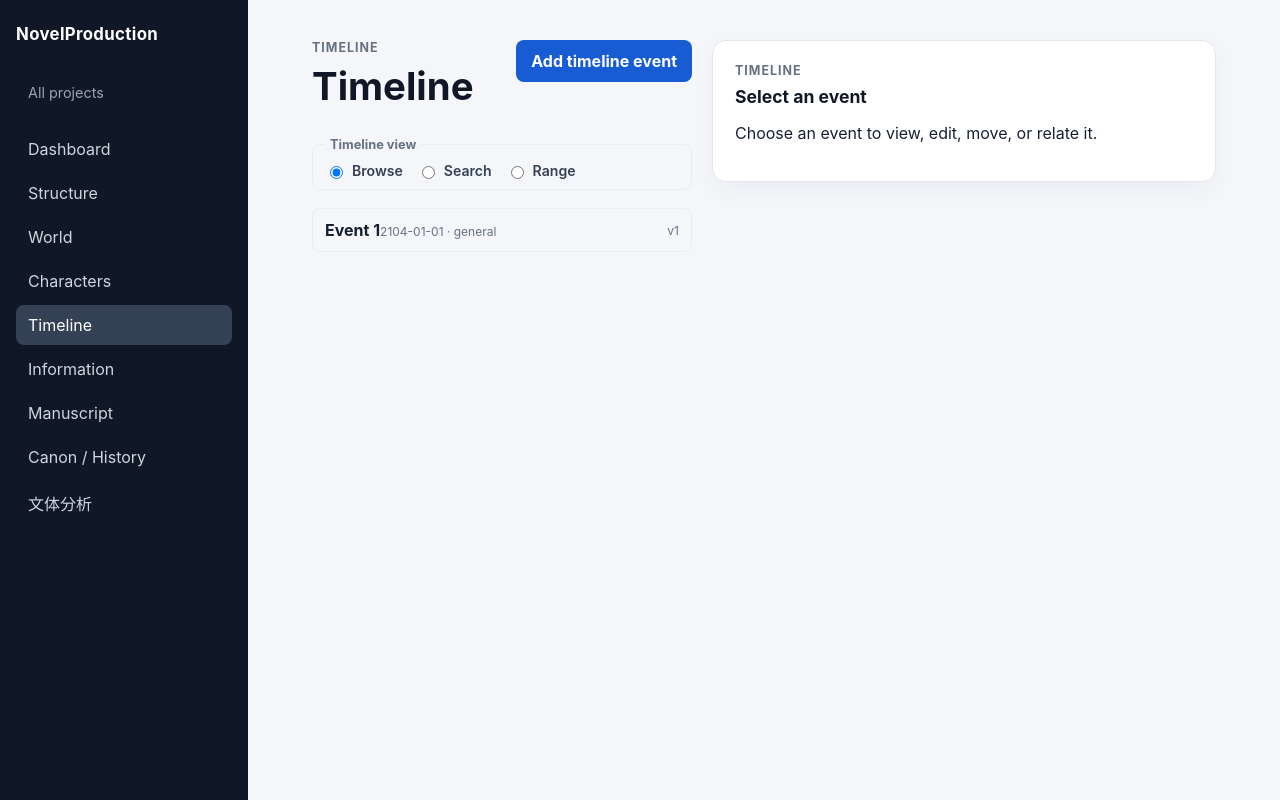
Test: D3 timeline flows › separates browse, search, and range modes
Check: the text "Event 1" is shown, box x1=325 y1=220 x2=380 y2=240
Click the radio button labelled "Search": (428,172) x1=422 y1=166 x2=435 y2=178
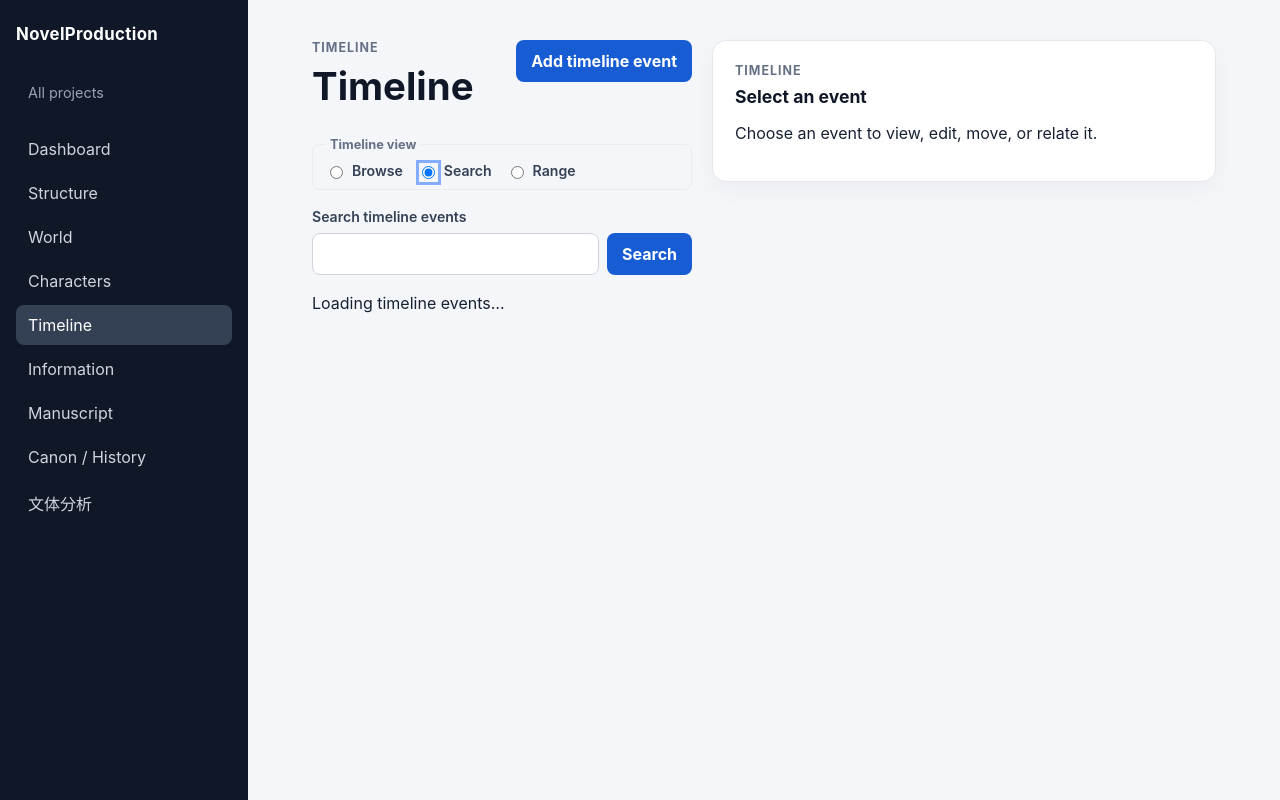
In the search field labelled "Search timeline events": (456,254) x1=312 y1=233 x2=599 y2=275, type "火山"
Click the button "Search": (650,254) x1=607 y1=233 x2=692 y2=275
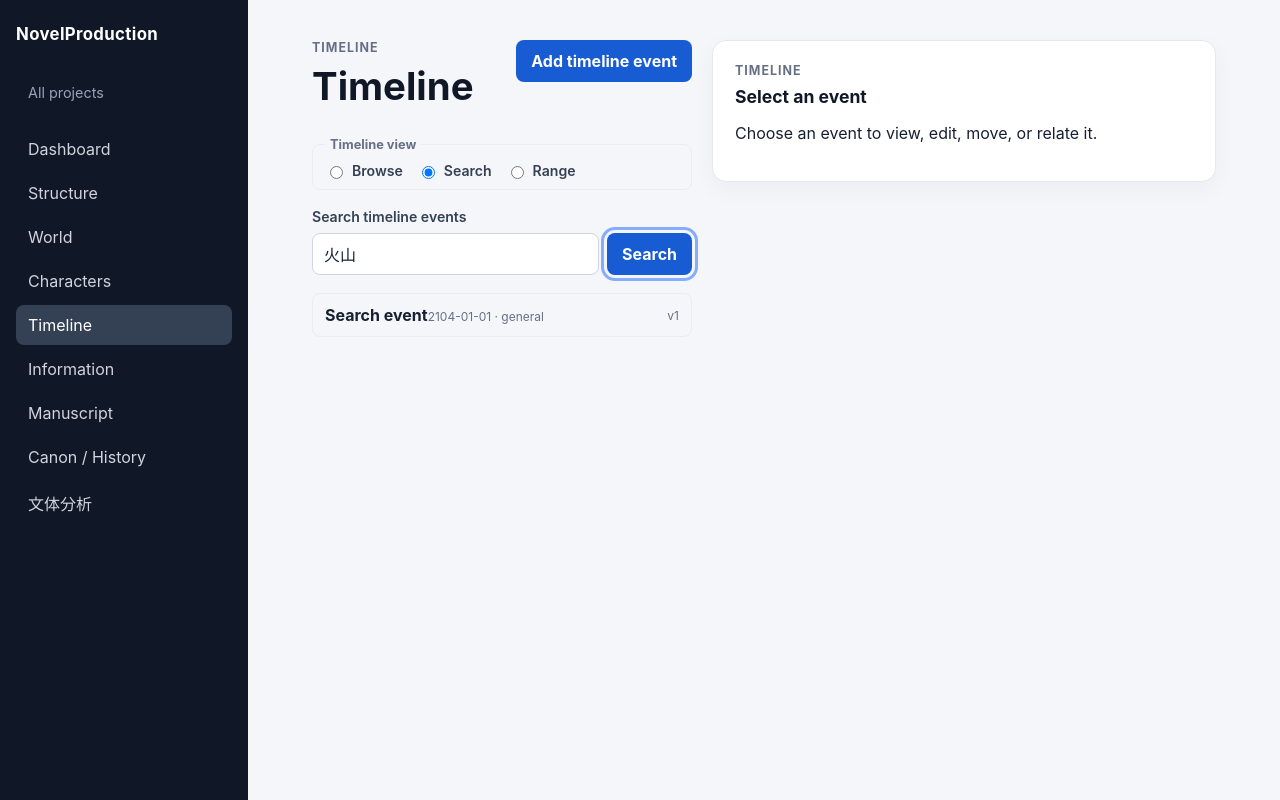
Check: the text "Search event" is shown, box x1=325 y1=305 x2=428 y2=325
Click the radio button labelled "Range": (517,172) x1=511 y1=166 x2=524 y2=178
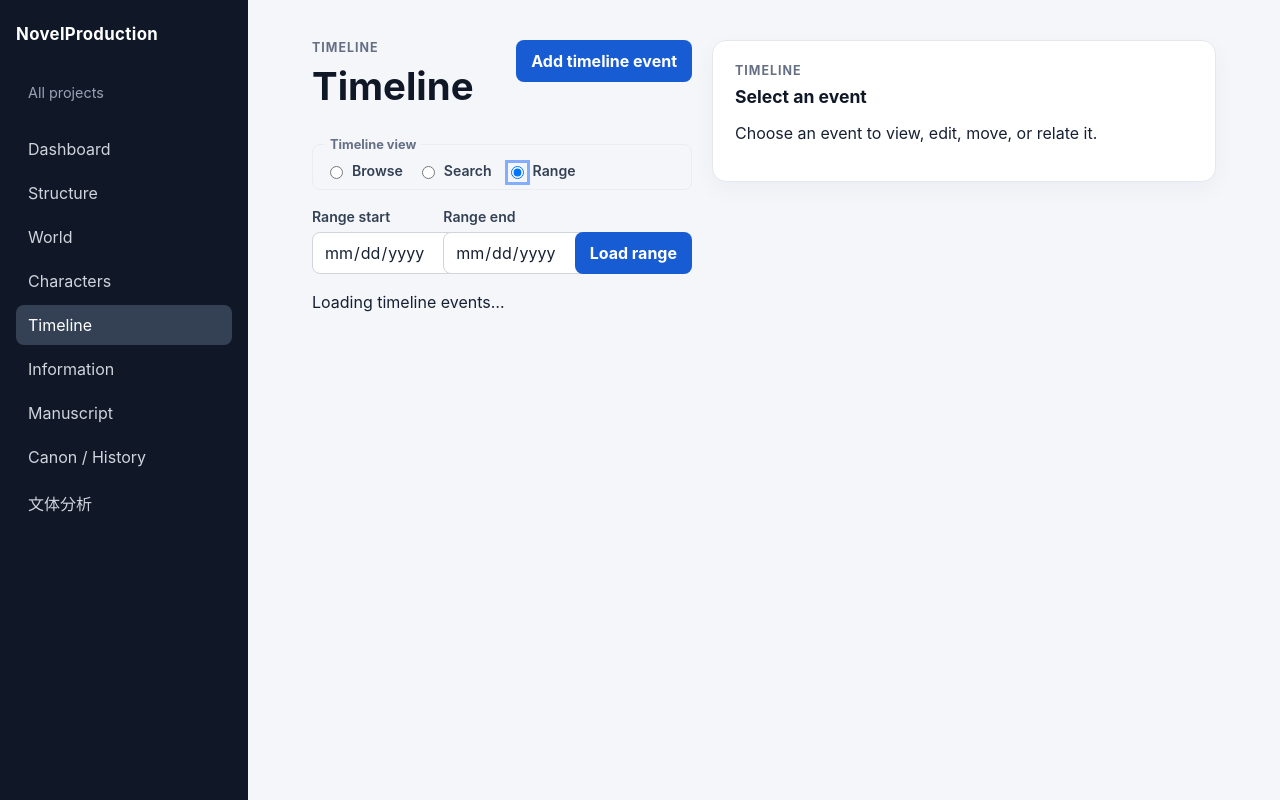
In the date field labelled "Range start": (396,253) x1=312 y1=232 x2=479 y2=274, type "2104-01-01"
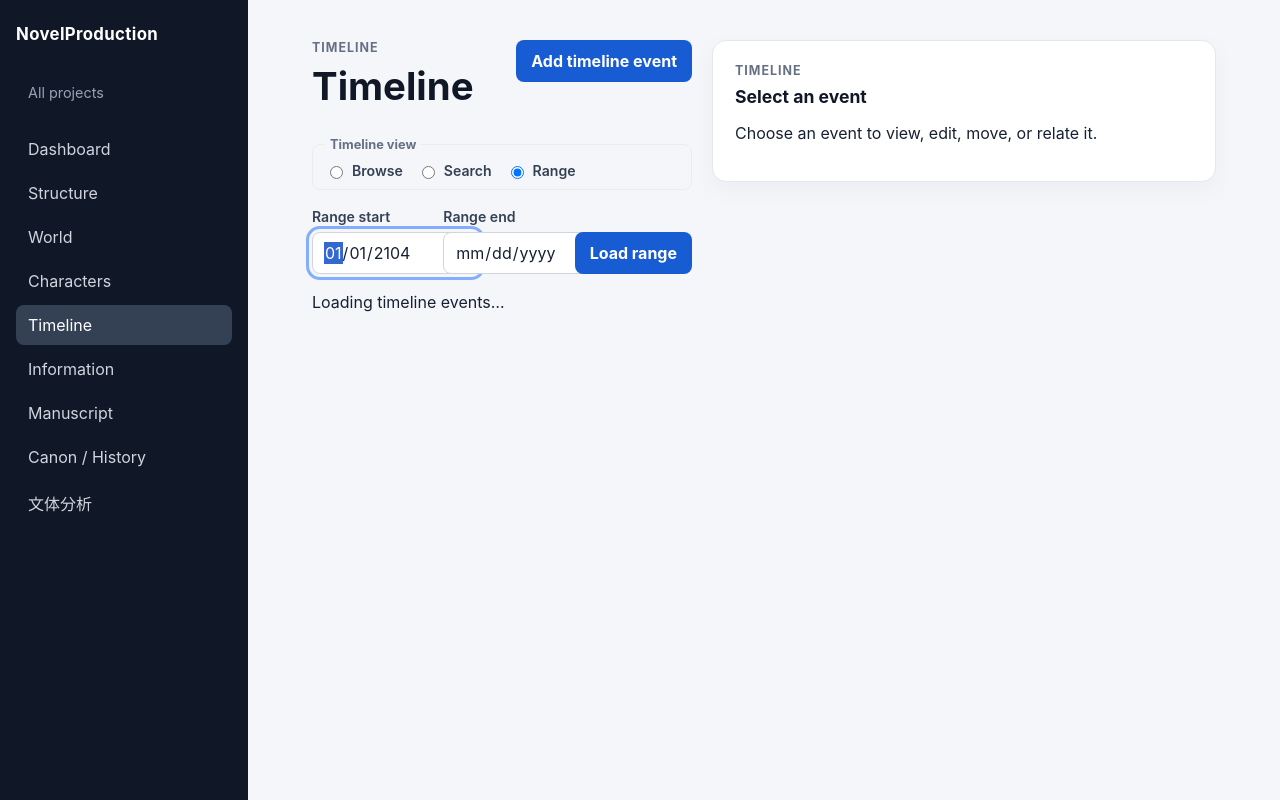
In the date field labelled "Range end": (527,253) x1=443 y1=232 x2=610 y2=274, type "2104-12-31"
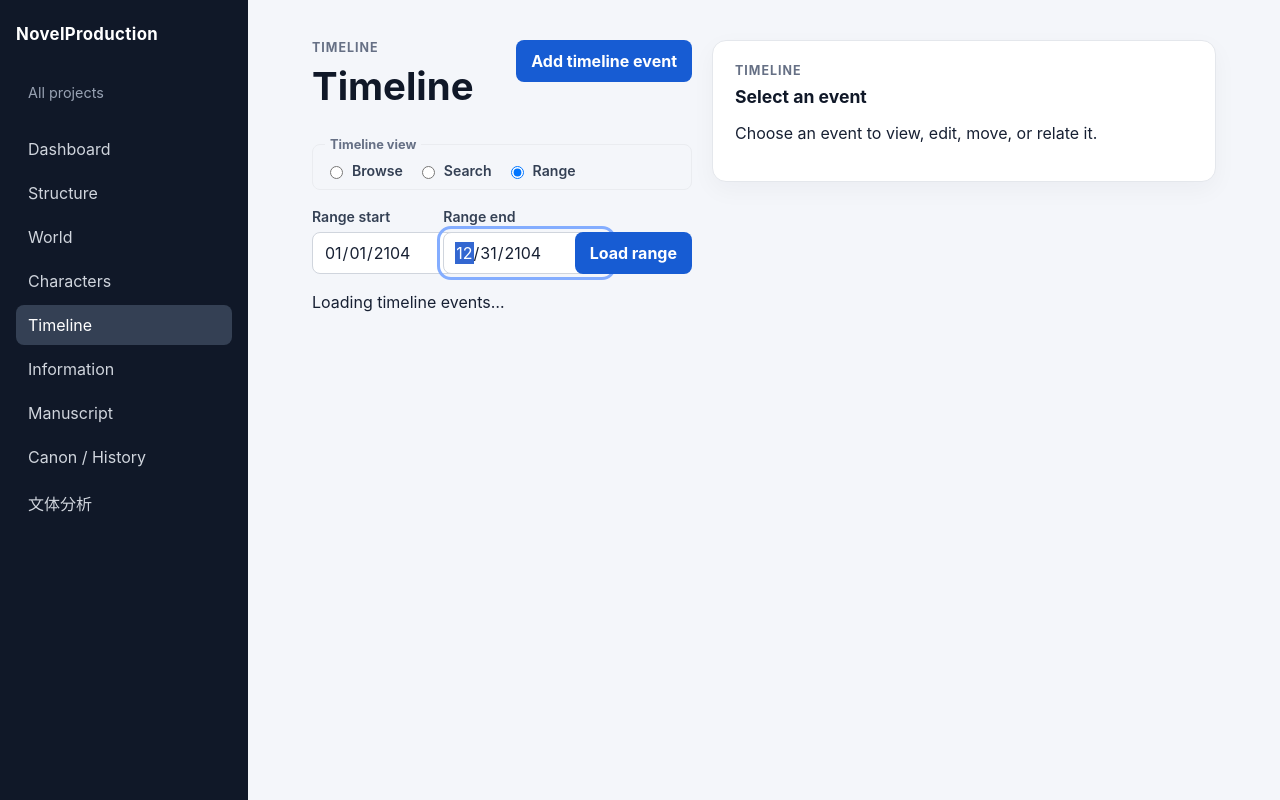
Click the button "Load range": (633,253) x1=575 y1=232 x2=692 y2=274
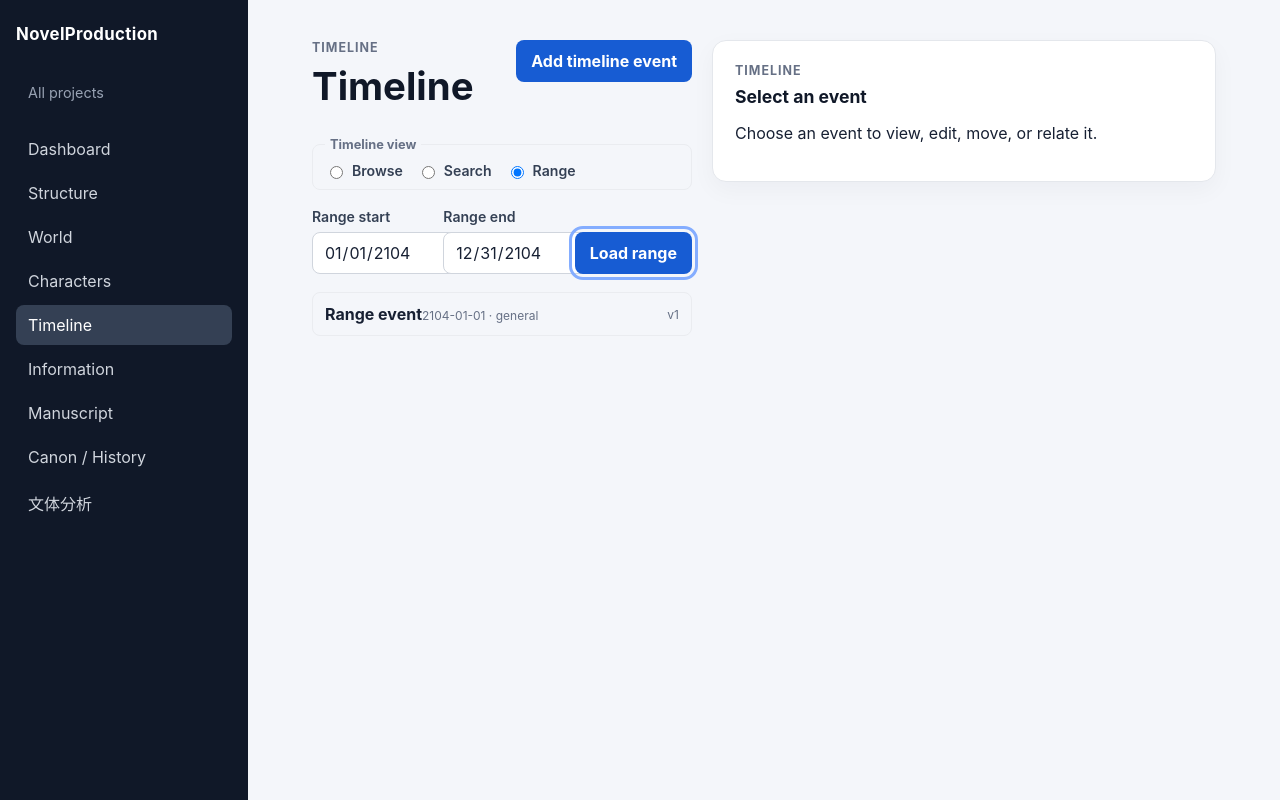
Check: the text "Range event" is shown, box x1=325 y1=304 x2=422 y2=324
